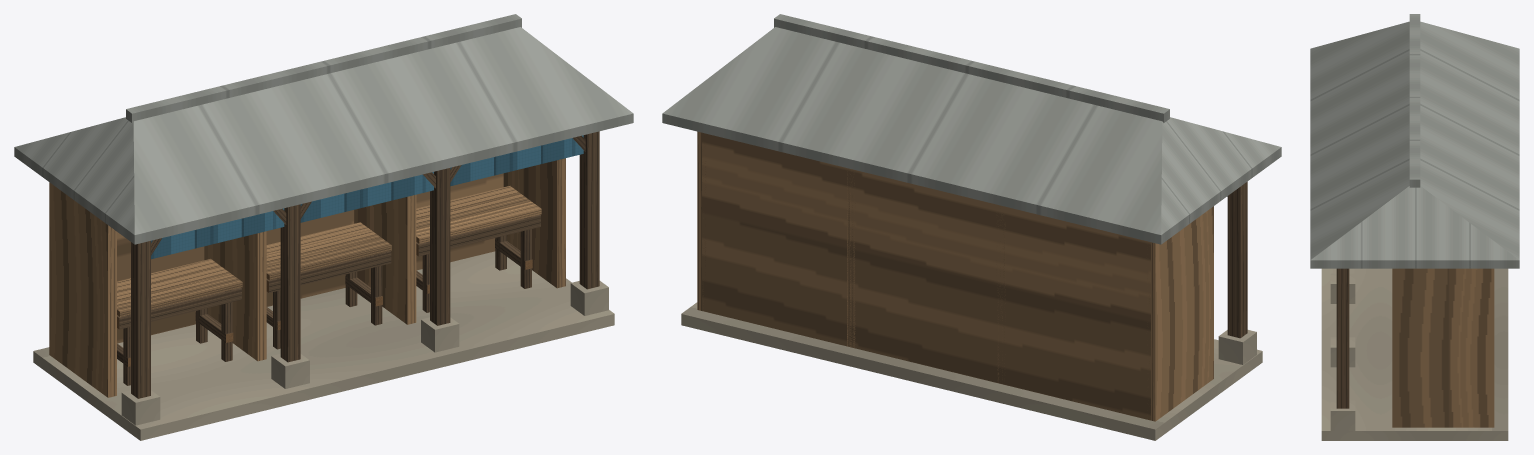
Rendered from ibadan.glb.
The picture shows the model from 3 angles, left to right: view 1: azimuth 30°, elevation 25°; view 2: azimuth 150°, elevation 25°; view 3: azimuth 270°, elevation 25°; orthographic projection. The views are drawn at different scales.
Visible parts, largest first — view 1: ibadan; view 2: ibadan; view 3: ibadan.
Boxes of the visible parts, x1,y1,x2,y2 form: ibadan: (14, 14, 633, 440); ibadan: (662, 14, 1281, 440); ibadan: (1310, 14, 1519, 440).
Size of the model in its own units: 4.29 by 2.3 by 1.79.
Materials: 1 (1 with a texture image).
